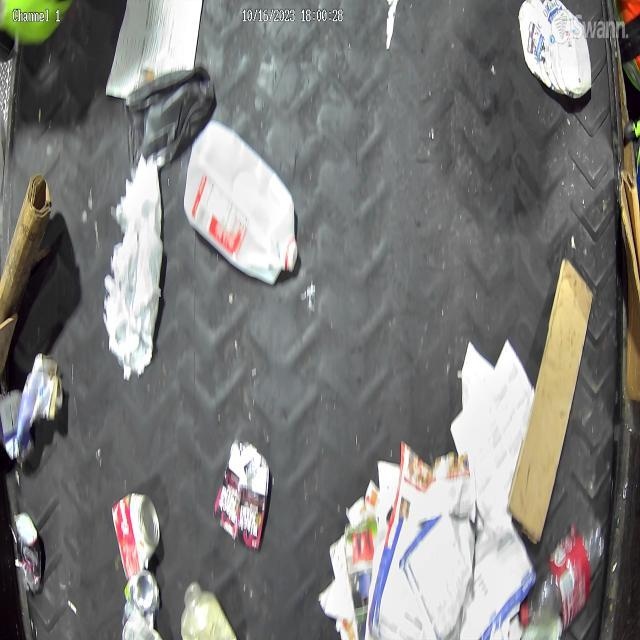can: (111, 492, 161, 581), (121, 570, 160, 630), (18, 512, 42, 593)
milk_jug: (184, 121, 298, 285), (518, 0, 592, 99)
non_white_jug: (0, 356, 64, 464)
plastic_bottle: (519, 511, 606, 627)
